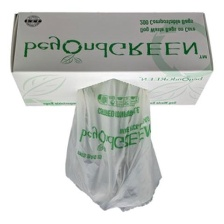book: (6, 6, 218, 113)
tissue: (60, 75, 166, 217)
